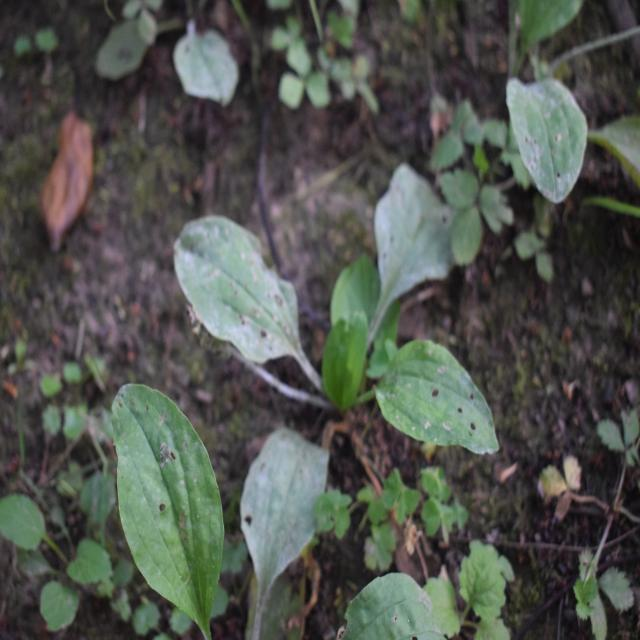plantain: (176, 170, 511, 490)
